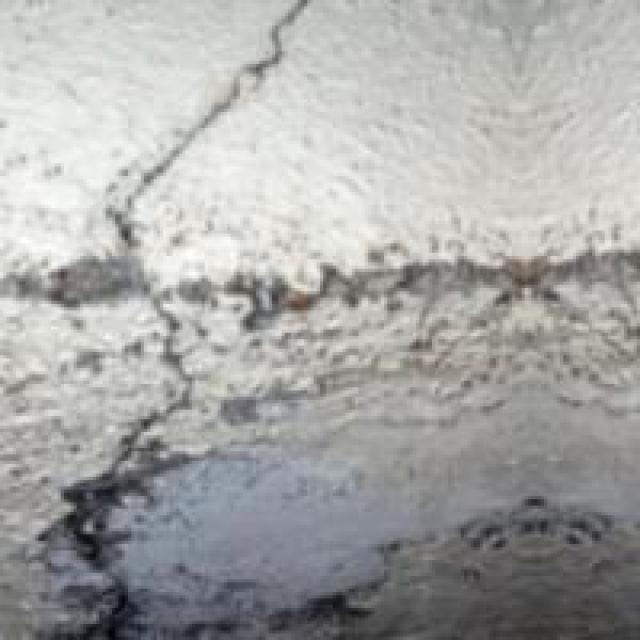Crack: (106, 0, 308, 611)
